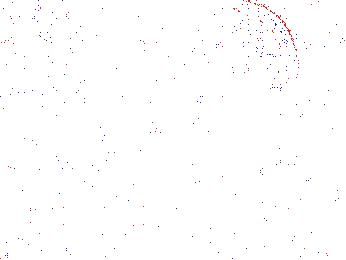moon jellyfish: (203, 1, 299, 89), (1, 39, 94, 106), (121, 41, 180, 139), (12, 1, 80, 86), (157, 14, 238, 74)
